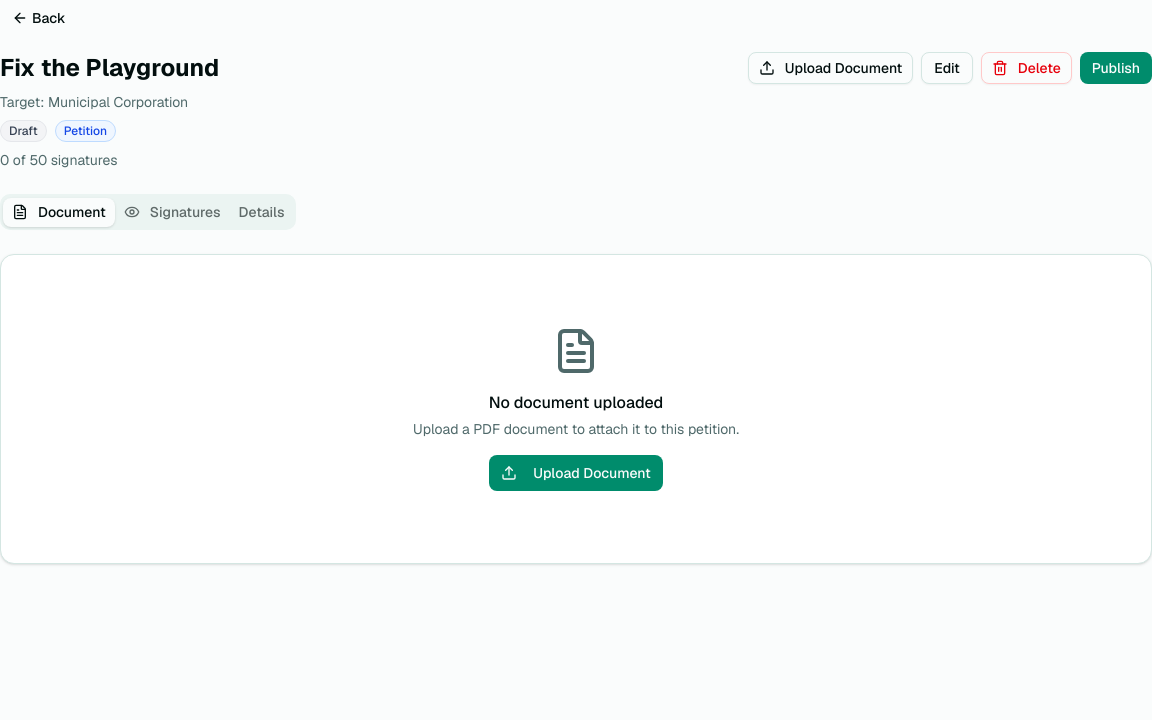
Test case: PetitionDetailPage › opens Upload Document dialog when button is clicked
Expected: the heading "Fix the Playground" is shown, [0, 52, 219, 84]
Click the button "Upload Document" in the row of "Fix the Playground": (831, 68) [748, 52, 913, 84]
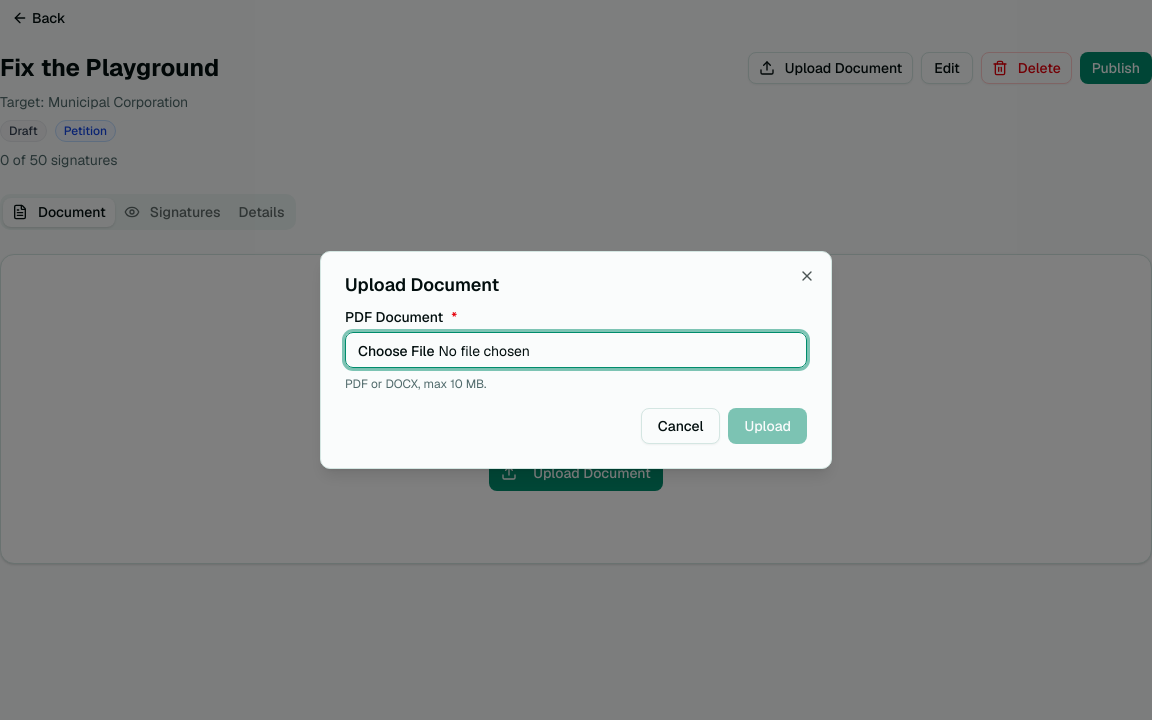
Now the dialog is shown, box [320, 251, 832, 469]
